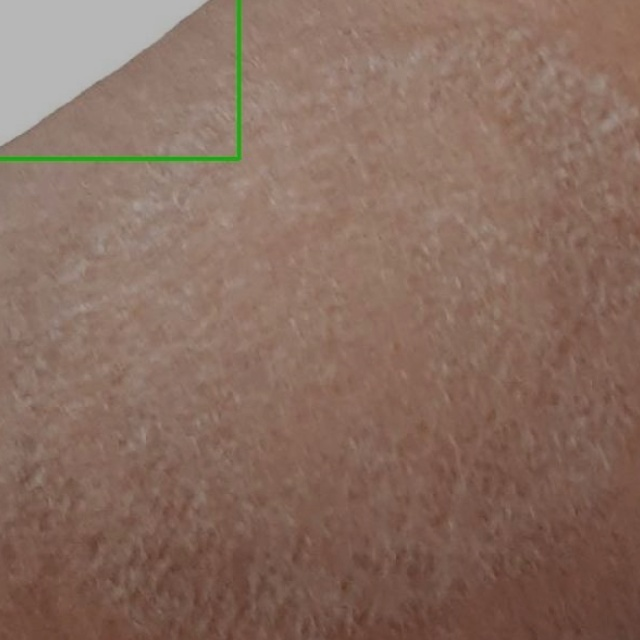Tinea Corporis: (0, 0, 238, 158)
